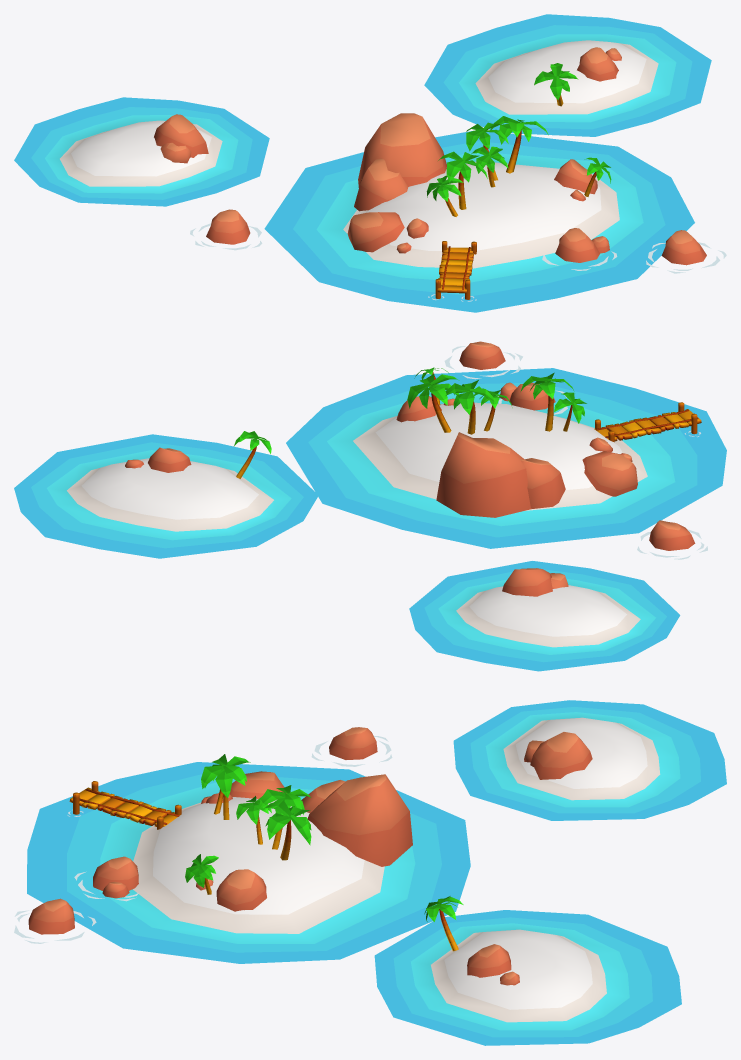
Rendered from background-island.glb.
3 views of the same model, one above another, from view 1: azimuth 30°, elevation 25°; view 2: azimuth 150°, elevation 25°; view 3: azimuth 270°, elevation 25° (orthographic). The views are drawn at different scales.
Parts seen in each view (by area): view 1: Island, Island.001, Island.002, Rock.001, Rock.008, Dock, Rock.002, Rock.016, Rock.018, Rock.013, Rock.007, Rock.014 (+7 smaller); view 2: Island, Island.001, Island.002, Rock.001, Rock.008, Dock, Rock.002, Rock.016, Palm Tree.004, Rock.018, Rock.013, Palm Tree.003 (+5 smaller); view 3: Island, Island.001, Island.002, Rock.001, Dock, Rock.016, Rock.011, Rock.013, Palm Tree.004, Palm Tree, Rock.018, Rock.014 (+7 smaller).
Boxes of the visible parts, <box> form: Island: <box>264,130,694,312</box>; Island.001: <box>424,14,711,136</box>; Island.002: <box>14,97,269,206</box>; Rock.001: <box>358,113,446,187</box>; Rock.008: <box>347,212,404,252</box>; Dock: <box>435,241,476,299</box>; Rock.002: <box>354,158,408,211</box>; Rock.016: <box>154,114,208,157</box>; Rock.018: <box>206,209,250,244</box>; Rock.013: <box>661,230,706,265</box>; Rock.007: <box>555,228,600,262</box>; Rock.014: <box>577,47,618,81</box>; Island: <box>286,368,726,548</box>; Island.001: <box>14,434,317,558</box>; Island.002: <box>409,561,680,671</box>; Rock.001: <box>436,432,531,517</box>; Rock.008: <box>582,451,637,496</box>; Dock: <box>594,402,701,442</box>; Rock.002: <box>520,458,565,508</box>; Rock.016: <box>502,568,552,596</box>; Palm Tree.004: <box>407,374,459,432</box>; Rock.018: <box>649,520,695,550</box>; Rock.013: <box>459,341,505,369</box>; Palm Tree.003: <box>445,380,496,434</box>; Island: <box>27,762,470,963</box>; Island.001: <box>374,910,681,1045</box>; Island.002: <box>453,700,726,820</box>; Rock.001: <box>307,774,412,866</box>; Dock: <box>69,781,181,829</box>; Rock.016: <box>530,732,592,779</box>; Rock.011: <box>216,869,266,911</box>; Rock.013: <box>28,898,74,934</box>; Palm Tree.004: <box>264,800,311,860</box>; Palm Tree: <box>201,754,250,819</box>; Rock.018: <box>329,727,377,759</box>; Rock.014: <box>467,944,511,977</box>.
Size of what is drawn, in the model's own units: 43.63 by 5.61 by 38.1.
1 material, 1 textured.
